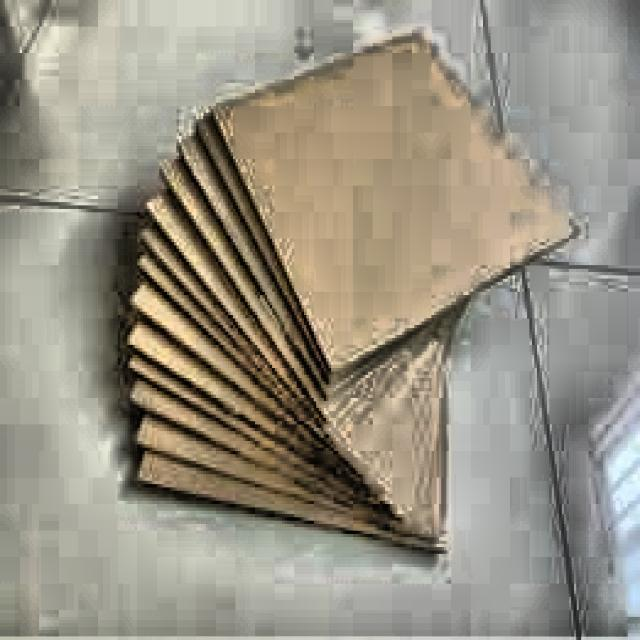cardboard: (123, 26, 576, 554)
